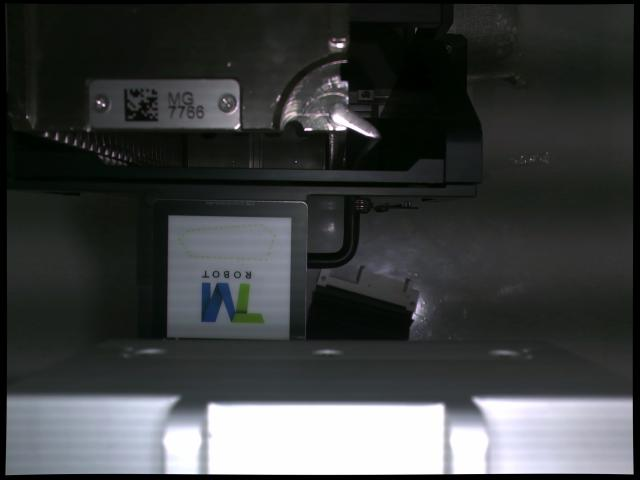jig_latch: (330, 104, 380, 139)
